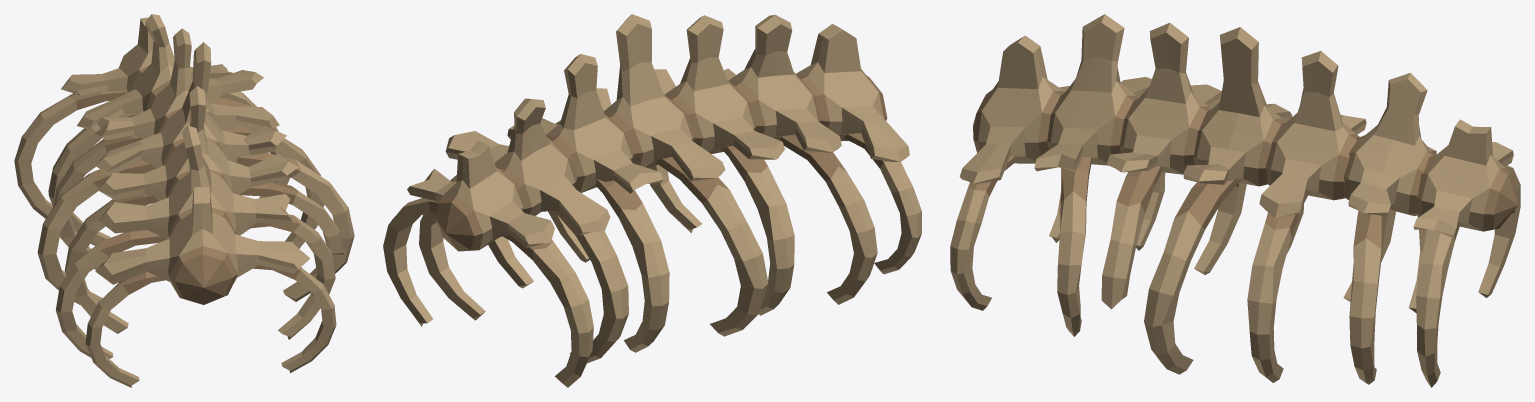
The model's file is shenqu.FBX.
3 views of the same model, side by side, from view 1: azimuth 30°, elevation 25°; view 2: azimuth 150°, elevation 25°; view 3: azimuth 270°, elevation 25° (orthographic). The views are drawn at different scales.
Visible parts, largest first — view 1: SM_Env_Bone_Rigcage_01_Dungeon_Material_01_0; view 2: SM_Env_Bone_Rigcage_01_Dungeon_Material_01_0; view 3: SM_Env_Bone_Rigcage_01_Dungeon_Material_01_0.
Boxes of the visible parts, x1=… form: SM_Env_Bone_Rigcage_01_Dungeon_Material_01_0: x1=14, y1=14, x2=354, y2=387; SM_Env_Bone_Rigcage_01_Dungeon_Material_01_0: x1=383, y1=14, x2=921, y2=387; SM_Env_Bone_Rigcage_01_Dungeon_Material_01_0: x1=950, y1=14, x2=1520, y2=387.
Size of the model in its own units: 37.13 by 27.73 by 46.43.
